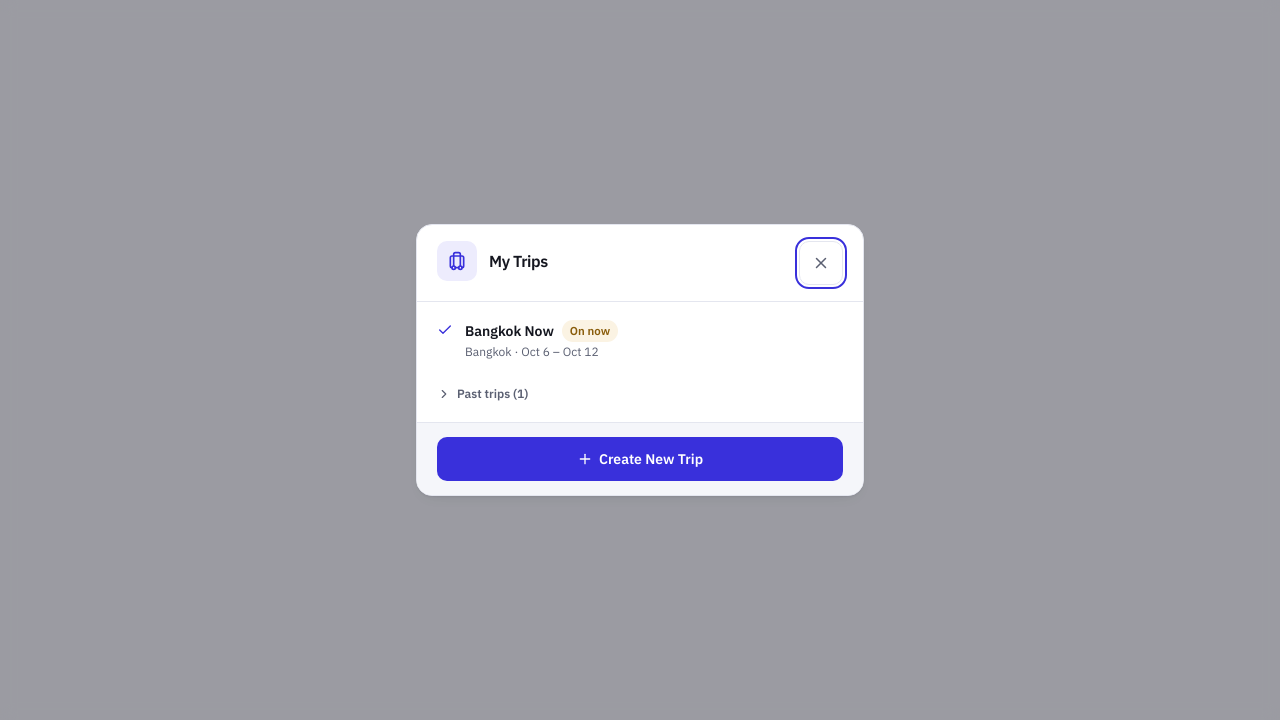
Scenario: TripSwitcher › shows a finished trip once its group is opened
The image size is (1280, 720).
Click the button "Past trips (1)" at (493, 393), box [417, 372, 863, 416]
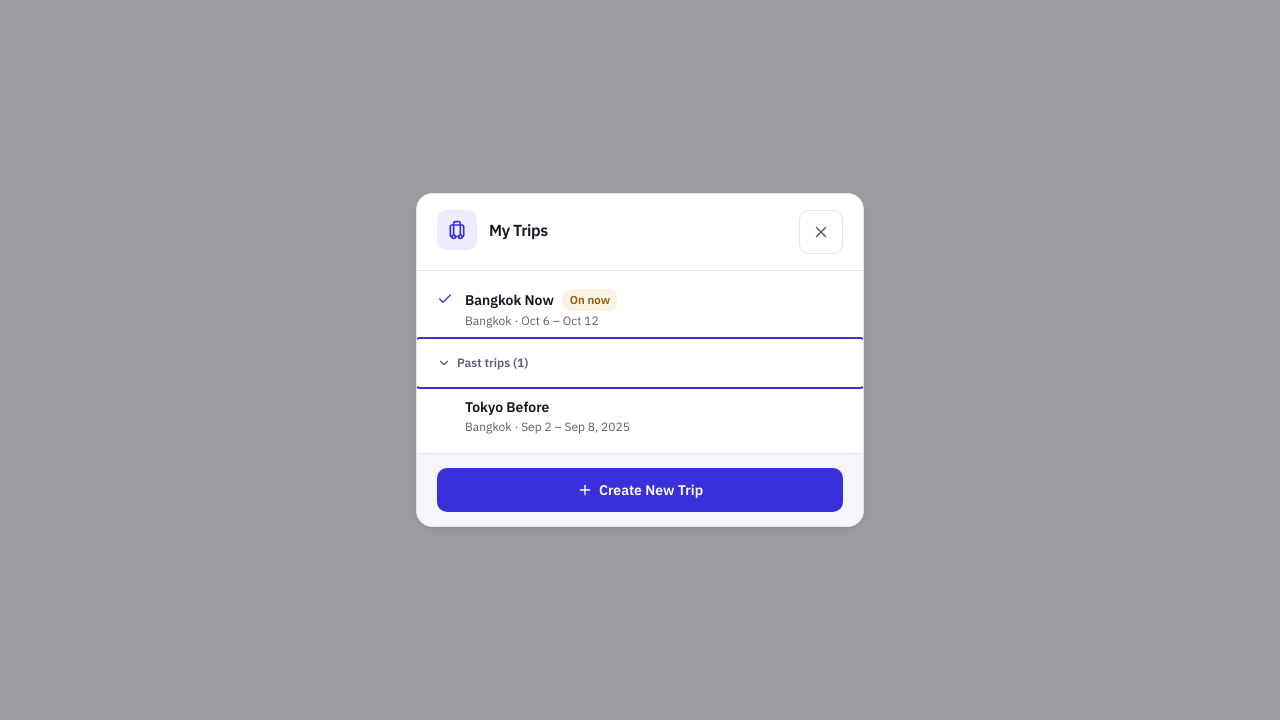
Check: the text "Tokyo Before" is shown, box [465, 397, 549, 417]
